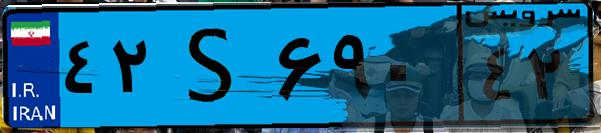0: (385, 28, 445, 110)
2: (525, 38, 570, 115), (110, 28, 158, 98)
4: (57, 26, 110, 100), (475, 38, 525, 113)
6: (270, 28, 330, 110)
9: (330, 28, 385, 110)
S: (158, 12, 270, 120)
